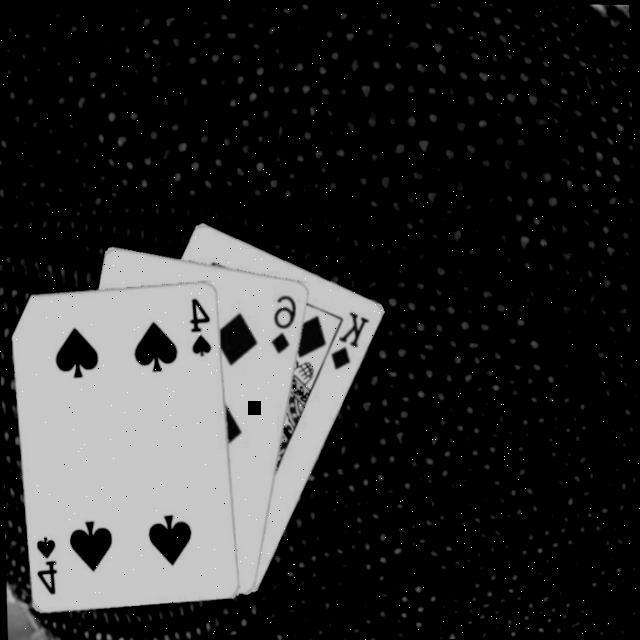4S: (184, 294, 214, 358), (32, 533, 59, 598)
6D: (265, 290, 299, 356)
KD: (324, 307, 372, 373)
